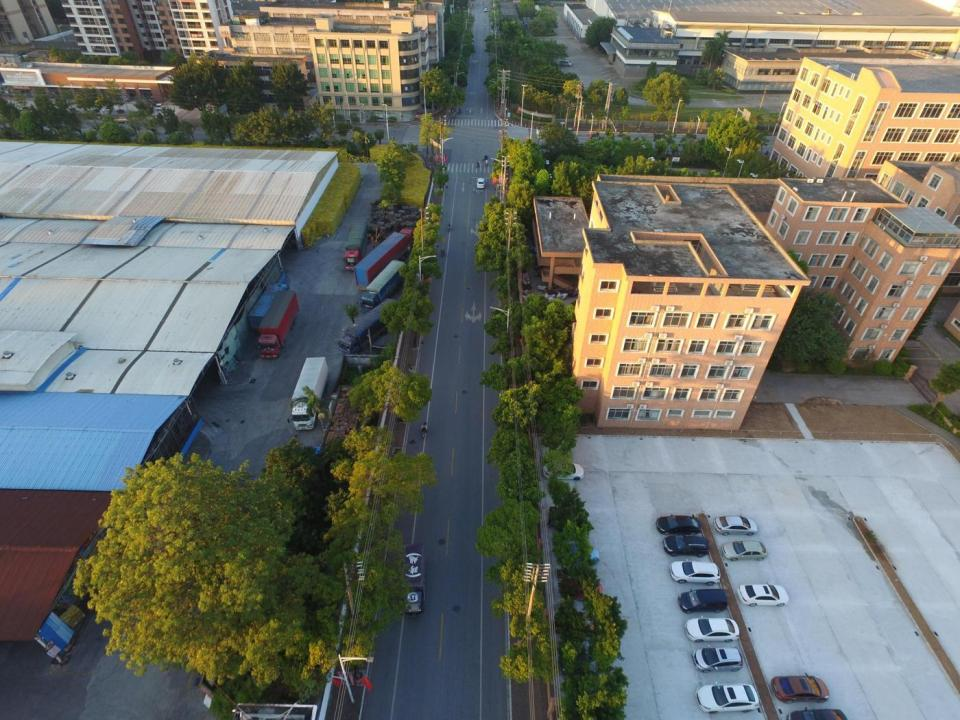bus: (400, 542, 426, 618)
car: (695, 681, 759, 714), (770, 672, 830, 704), (684, 613, 740, 643), (693, 643, 744, 674), (736, 581, 789, 608), (670, 558, 721, 586), (558, 649, 608, 676), (662, 532, 710, 558), (722, 538, 768, 563), (558, 577, 603, 600), (656, 514, 703, 536), (557, 542, 599, 566), (712, 514, 758, 535), (786, 705, 846, 720), (543, 462, 584, 480), (476, 177, 485, 188)
truck: (353, 228, 416, 292), (336, 299, 403, 357), (287, 356, 329, 431), (255, 290, 300, 359), (357, 260, 408, 318), (246, 283, 292, 336), (343, 223, 369, 272)
van: (679, 588, 728, 614), (559, 59, 572, 67)
